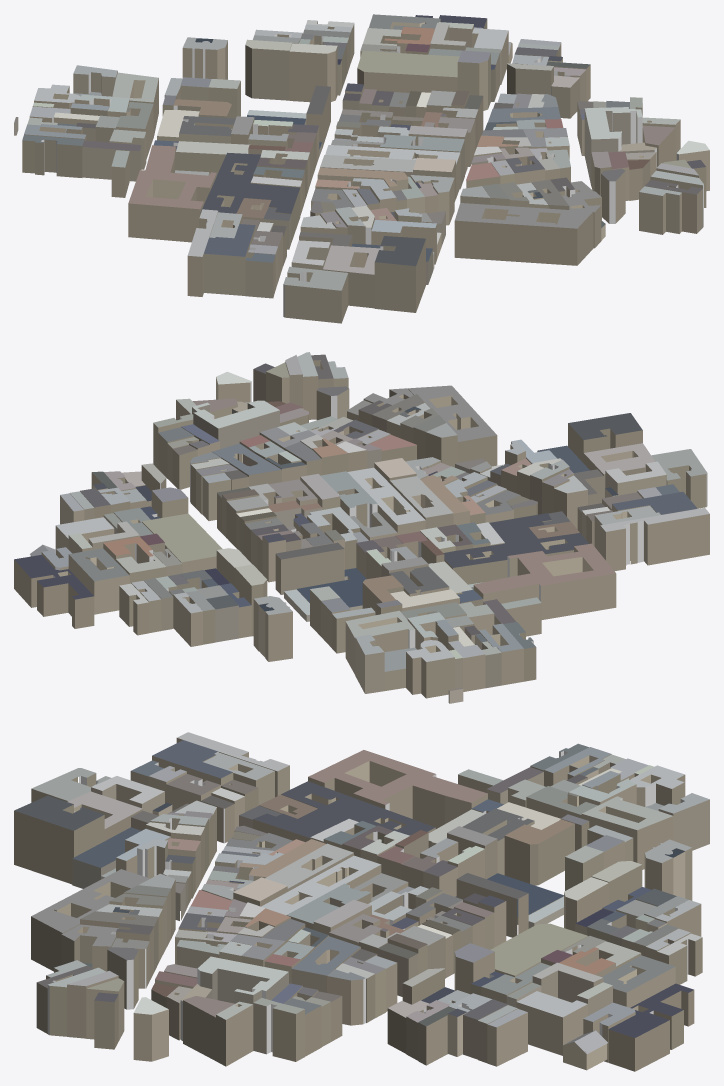
The picture shows the model from 3 angles, top to bottom: view 1: azimuth 30°, elevation 25°; view 2: azimuth 150°, elevation 25°; view 3: azimuth 270°, elevation 25°; orthographic projection. The views are drawn at different scales.
Visible parts, largest first — view 1: tuile; view 2: tuile; view 3: tuile.
Part boxes in pixels (box(x1,y1,x2,y2)): tuile: box(14, 14, 709, 323); tuile: box(14, 352, 709, 703); tuile: box(14, 732, 709, 1071).
Size of the model in its own units: 272 by 32.2 by 278.
